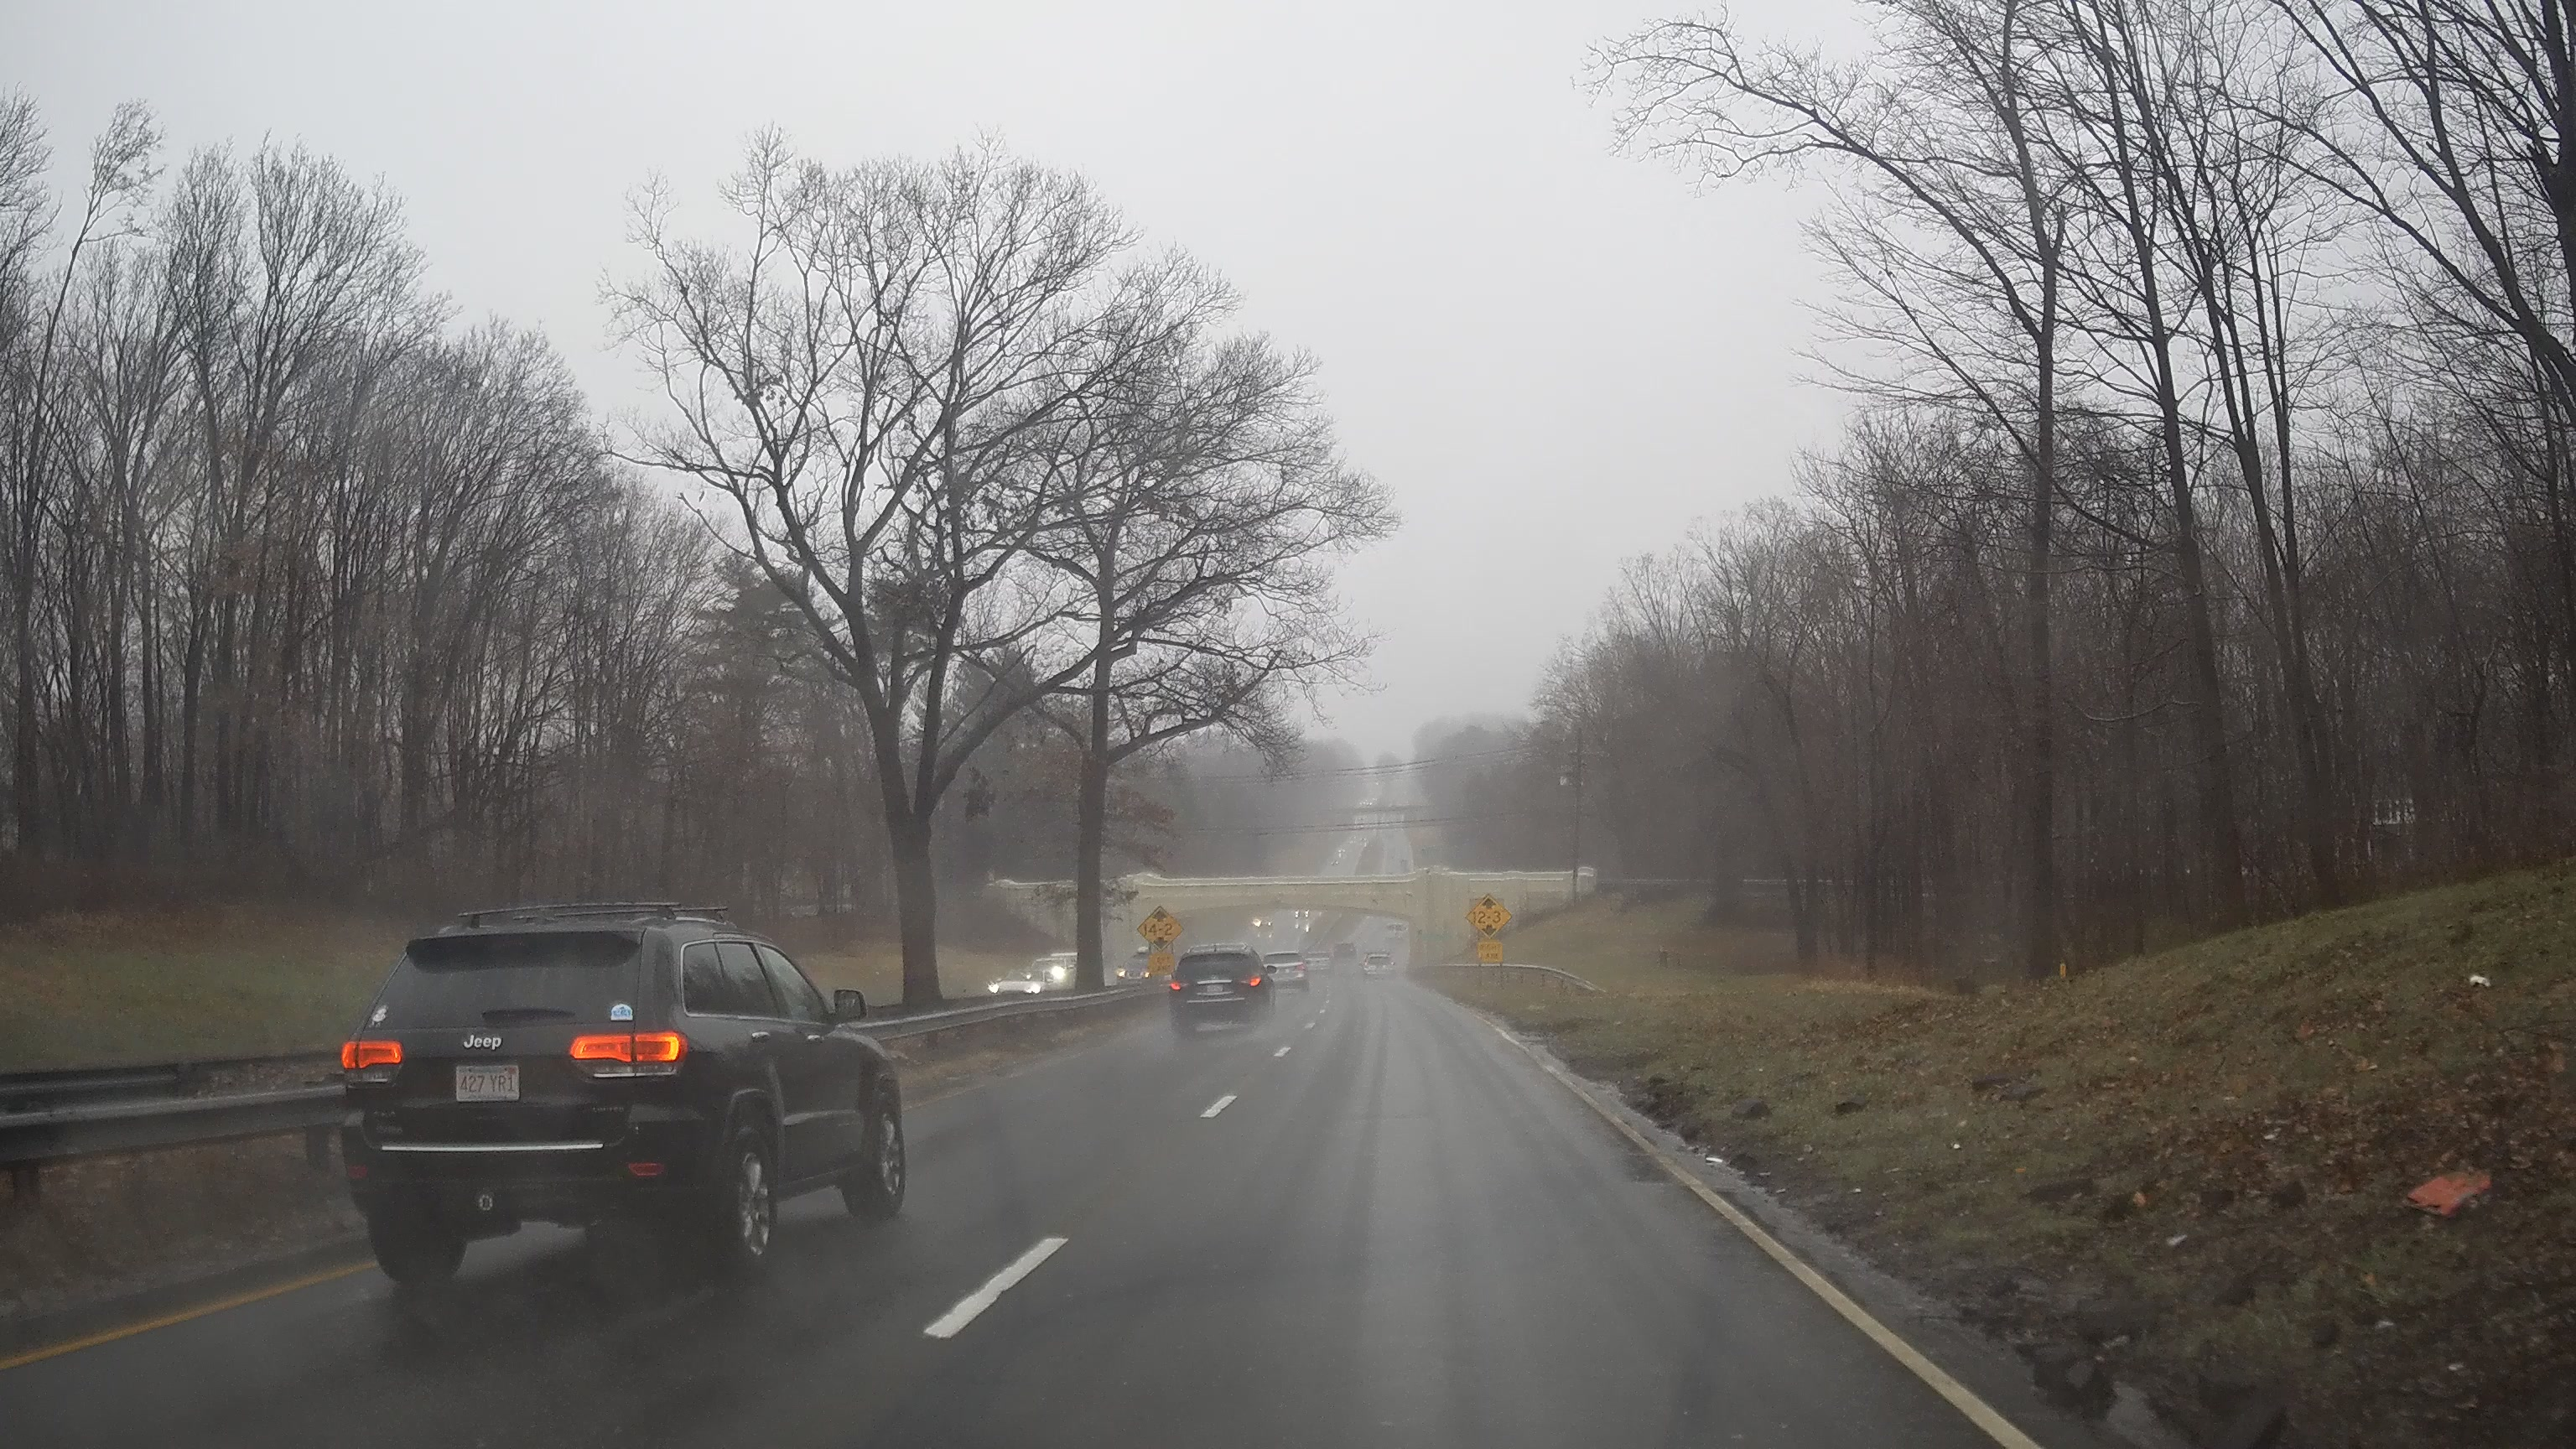low-clearance-sign: (1138, 906, 1185, 952), (1465, 893, 1513, 939)
